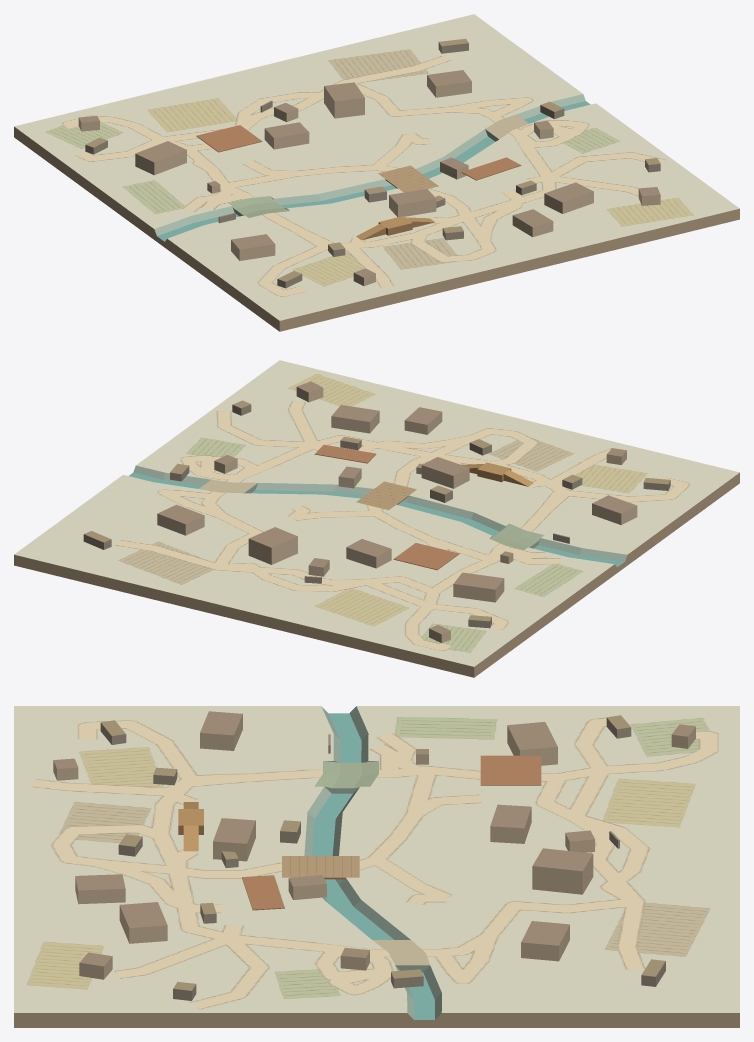
The model's file is farm_shell.glb.
The picture shows the model from 3 angles, top to bottom: view 1: azimuth 30°, elevation 25°; view 2: azimuth 150°, elevation 25°; view 3: azimuth 270°, elevation 25°; orthographic projection. The views are drawn at different scales.
Parts seen in each view (by area): view 1: 場地剖切與渠床-col, 農舍 3-col, 農舍 1-col, 農舍 7-col, 農舍 6-col, 發薪房屋頂-col, 農舍 4-col, 農舍 2-col, 農舍 5-col, 中橋通過面-col, 農舍 8-col, 種子秤棚屋頂-col; view 2: 場地剖切與渠床-col, 農舍 3-col, 農舍 1-col, 農舍 6-col, 農舍 7-col, 農舍 4-col, 發薪房屋頂-col, 中橋通過面-col, 農舍 5-col, 農舍 2-col, 農舍 8-col, 種子秤棚屋頂-col; view 3: 場地剖切與渠床-col, 農舍 3-col, 發薪房屋頂-col, 農舍 7-col, 中橋通過面-col, 農舍 1-col, 農舍 4-col, 農舍 6-col, 農舍 5-col, 農舍 2-col, 農舍 8-col, 種子秤棚屋頂-col (+6 smaller).
Part boxes in pixels (x1,y1,x2,y2): 場地剖切與渠床-col: (14, 14, 739, 331); 農舍 3-col: (324, 82, 364, 118); 農舍 1-col: (135, 141, 186, 175); 農舍 7-col: (544, 182, 593, 213); 農舍 6-col: (389, 189, 436, 217); 發薪房屋頂-col: (196, 125, 262, 152); 農舍 4-col: (427, 70, 471, 97); 農舍 2-col: (264, 122, 309, 149); 農舍 5-col: (231, 234, 275, 260); 中橋通過面-col: (378, 165, 438, 192); 農舍 8-col: (512, 209, 553, 237); 種子秤棚屋頂-col: (461, 157, 521, 180); 場地剖切與渠床-col: (14, 360, 739, 677); 農舍 3-col: (248, 527, 297, 564); 農舍 1-col: (453, 572, 504, 602); 農舍 6-col: (421, 457, 469, 488); 農舍 7-col: (331, 405, 379, 433); 農舍 4-col: (157, 504, 204, 535); 發薪房屋頂-col: (393, 543, 459, 570); 中橋通過面-col: (356, 481, 416, 510); 農舍 5-col: (592, 495, 637, 524); 農舍 2-col: (346, 539, 391, 568); 農舍 8-col: (404, 407, 442, 434); 種子秤棚屋頂-col: (314, 444, 376, 463); 場地剖切與渠床-col: (14, 706, 739, 1027); 農舍 3-col: (532, 848, 593, 894); 發薪房屋頂-col: (480, 755, 541, 785); 農舍 7-col: (119, 902, 167, 943); 中橋通過面-col: (282, 856, 359, 879); 農舍 1-col: (507, 722, 557, 765); 農舍 4-col: (521, 921, 569, 961); 農舍 6-col: (213, 818, 255, 861); 農舍 5-col: (200, 711, 242, 750); 農舍 2-col: (490, 804, 531, 843); 農舍 8-col: (75, 874, 125, 904); 種子秤棚屋頂-col: (242, 875, 284, 910).
Bounding box in the file's own units: 168 × 9.82 × 168.
Materials: 14 (1 with a texture image).
